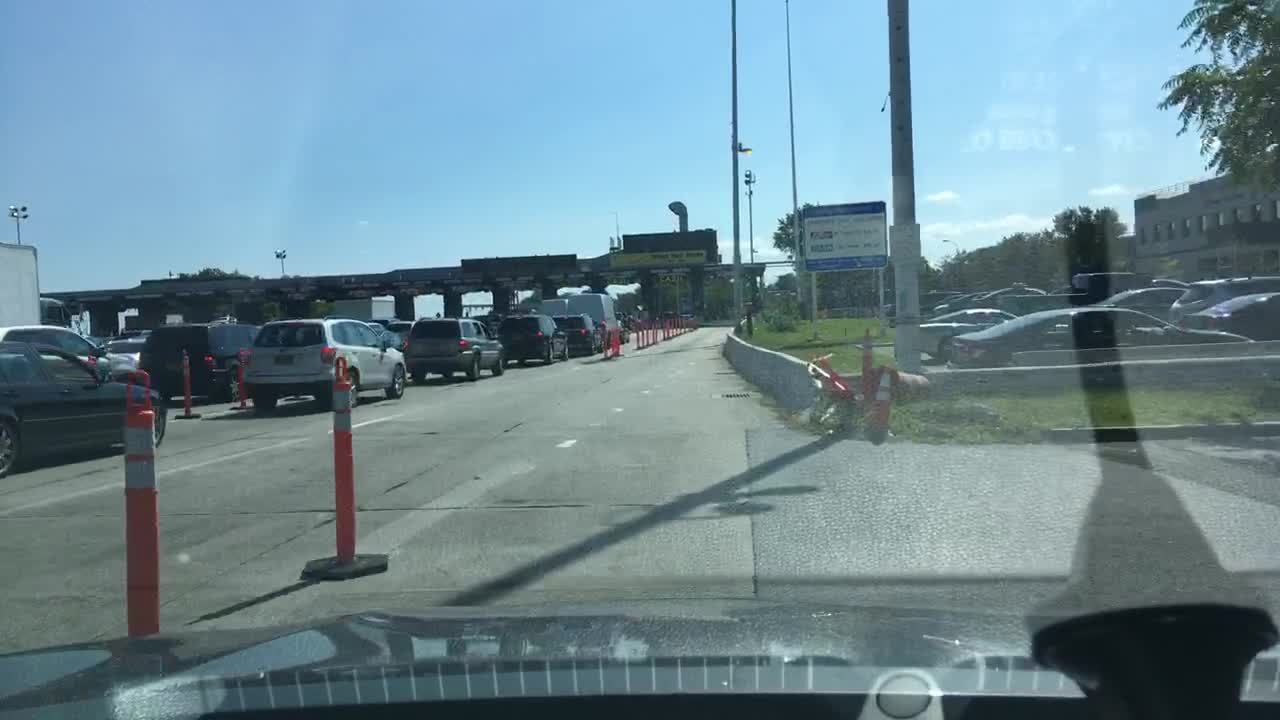car: (0, 337, 167, 480), (946, 305, 1259, 368), (239, 315, 407, 412), (138, 321, 267, 404), (0, 324, 138, 384), (401, 316, 506, 380), (1167, 273, 1278, 330), (918, 308, 1019, 362), (1182, 290, 1278, 340), (495, 312, 568, 364), (1084, 285, 1189, 321), (968, 280, 1049, 310), (550, 313, 604, 356), (101, 336, 146, 375), (932, 290, 990, 314), (915, 293, 963, 313), (386, 318, 415, 346), (1149, 277, 1189, 289), (617, 317, 630, 343), (368, 317, 399, 327)
truck: (0, 242, 73, 335), (567, 292, 618, 348), (330, 297, 394, 321), (540, 297, 569, 319)
